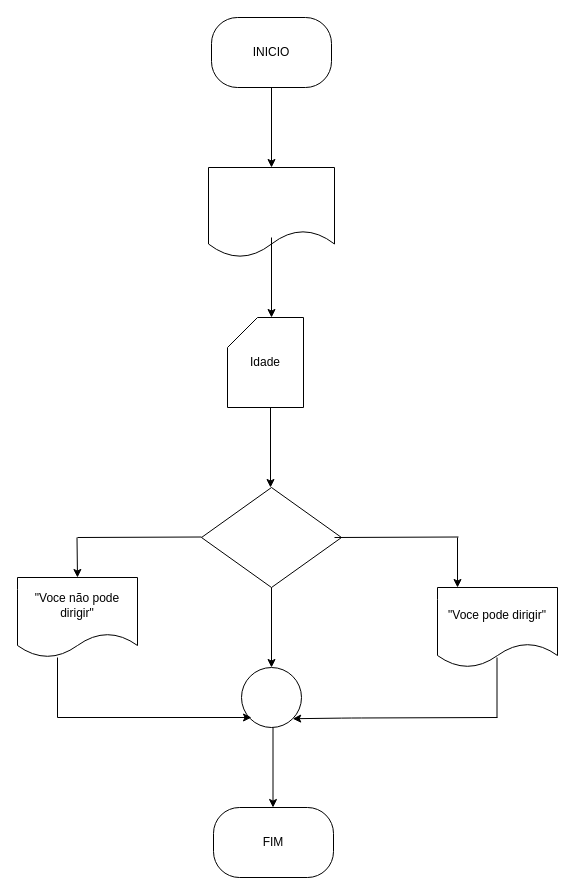
This 575x895 diagram has some shape labels left out. Each missing label, with the box of its shape:
"Informe a sua idade": (208, 166, 334, 258)
Idade >= 18: (200, 486, 342, 588)
